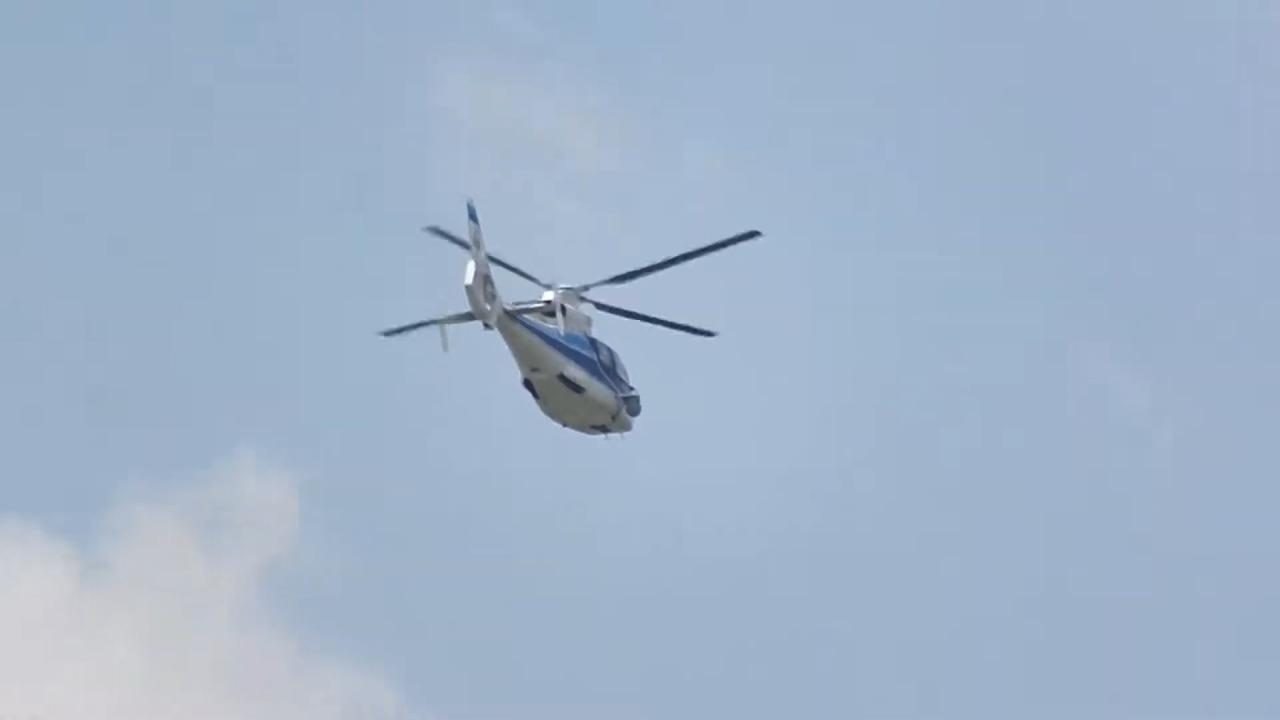Helicopter: (372, 185, 776, 448)
